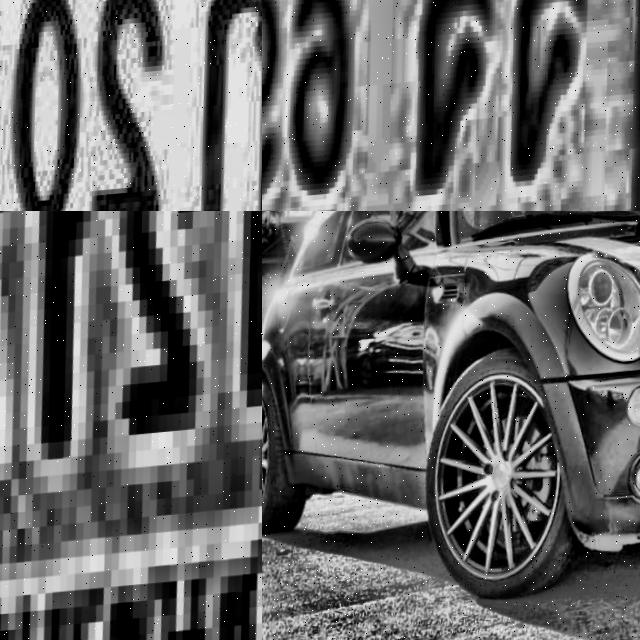license-plate: (0, 211, 262, 640), (262, 0, 640, 211), (0, 0, 262, 211)
